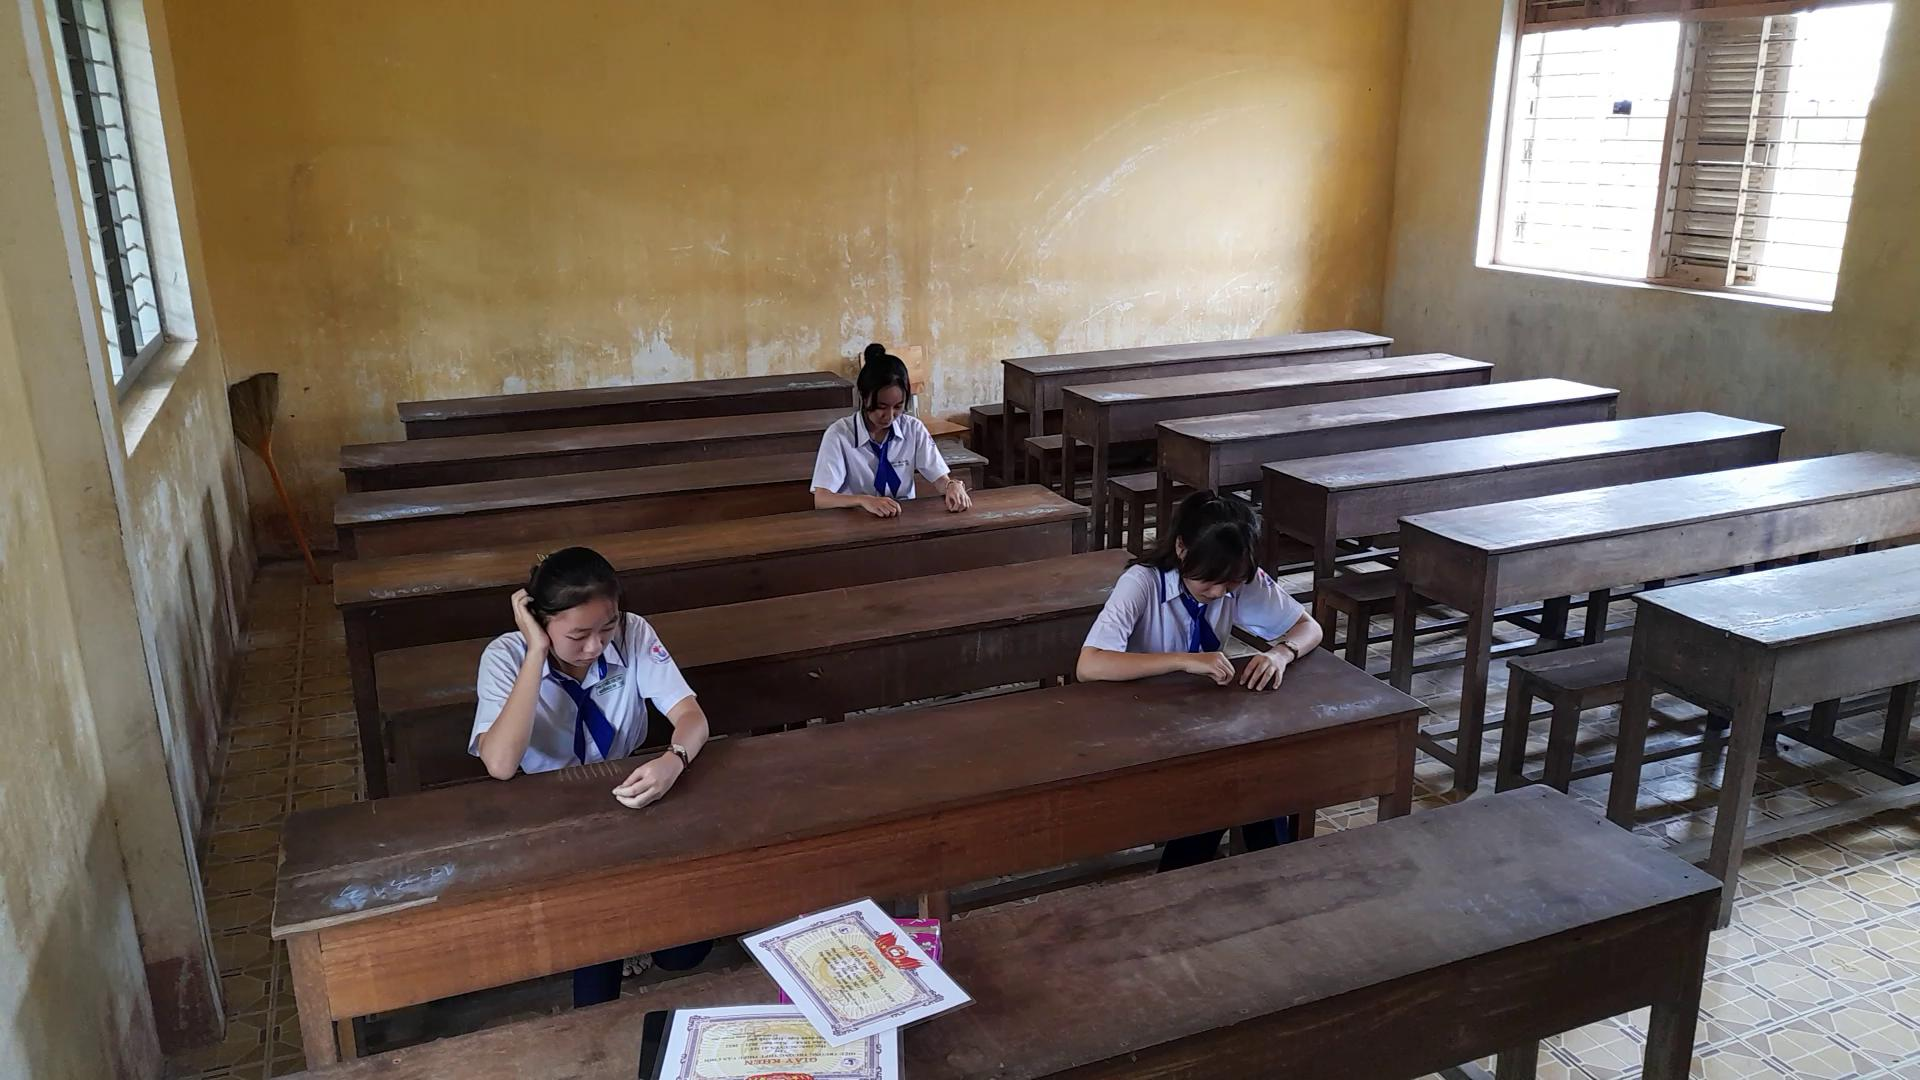Bend Over The Desk: (512, 539, 633, 687)
Normal: (1073, 471, 1331, 705), (750, 315, 1007, 550)
Wave: (459, 580, 531, 789)
